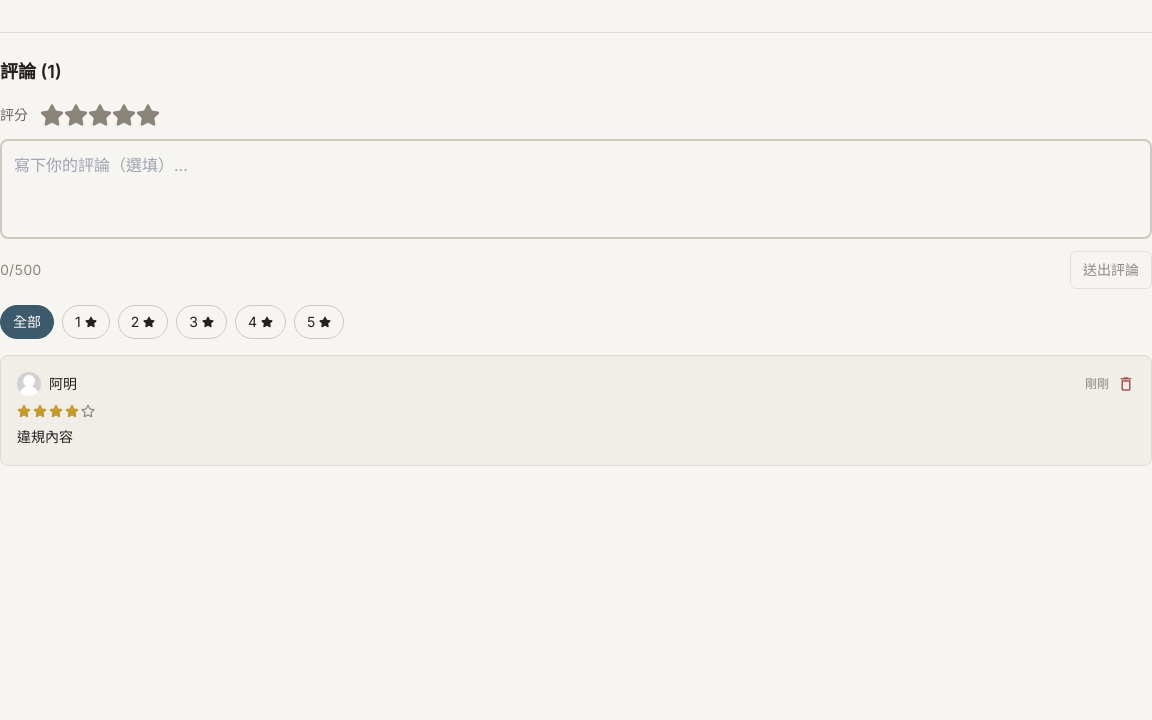
Scenario: CommentSection 刪除評論 › 管理員下架後該則變成墓碑而不是消失
What coordinates should you click on to do the following:
click the button named "刪除評論"
I would click on:
 (1126, 384)
Its box is [1117,375,1135,393].
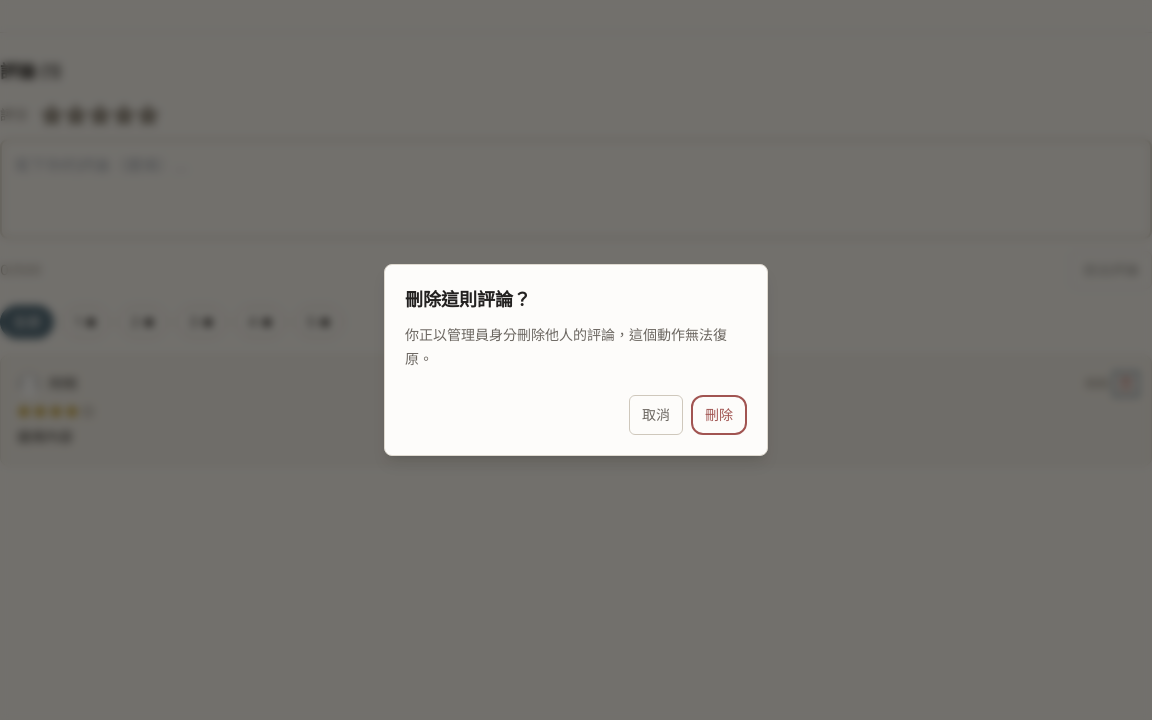
What coordinates should you click on to do the following:
click the button "刪除"
I would click on:
 (719, 415)
Its box is [691,395,747,435].
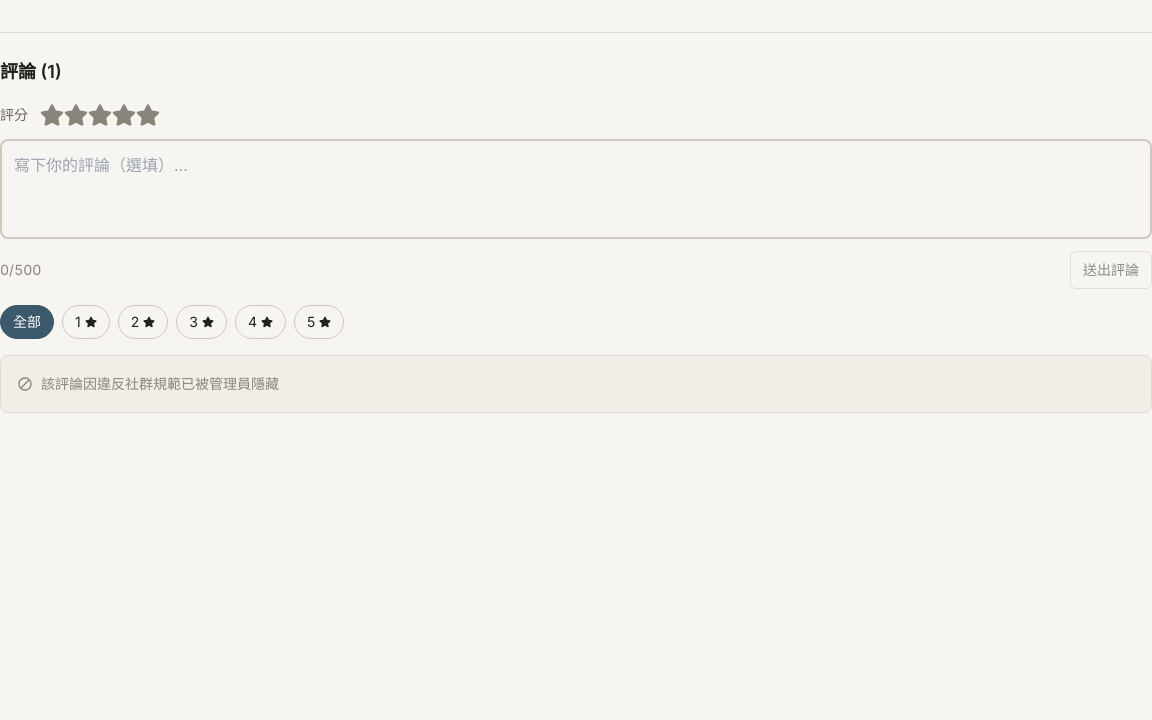
Check: the text "該評論因違反社群規範已被管理員隱藏" is shown, box [17,375,279,392]
Check: the text "違規內容" is gone
